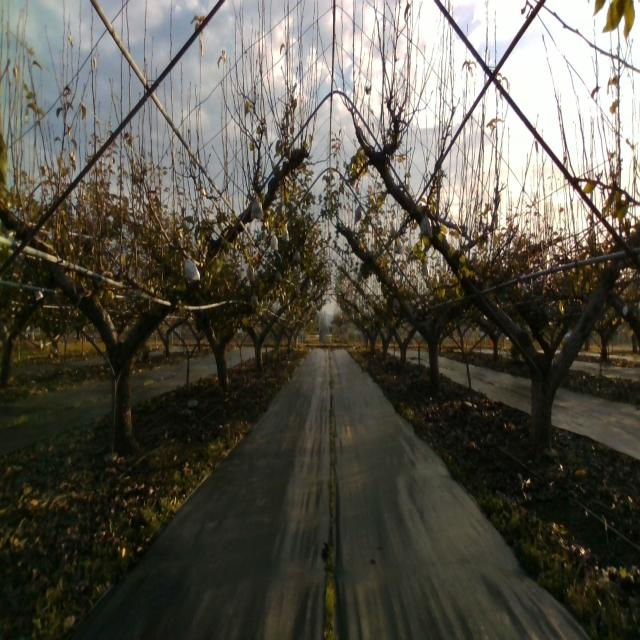pearbags: (184, 251, 200, 284), (250, 194, 264, 221), (418, 212, 432, 239)
